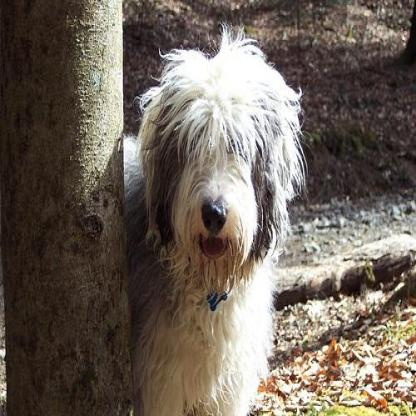Old_English_sheepdog: (126, 34, 308, 414)
